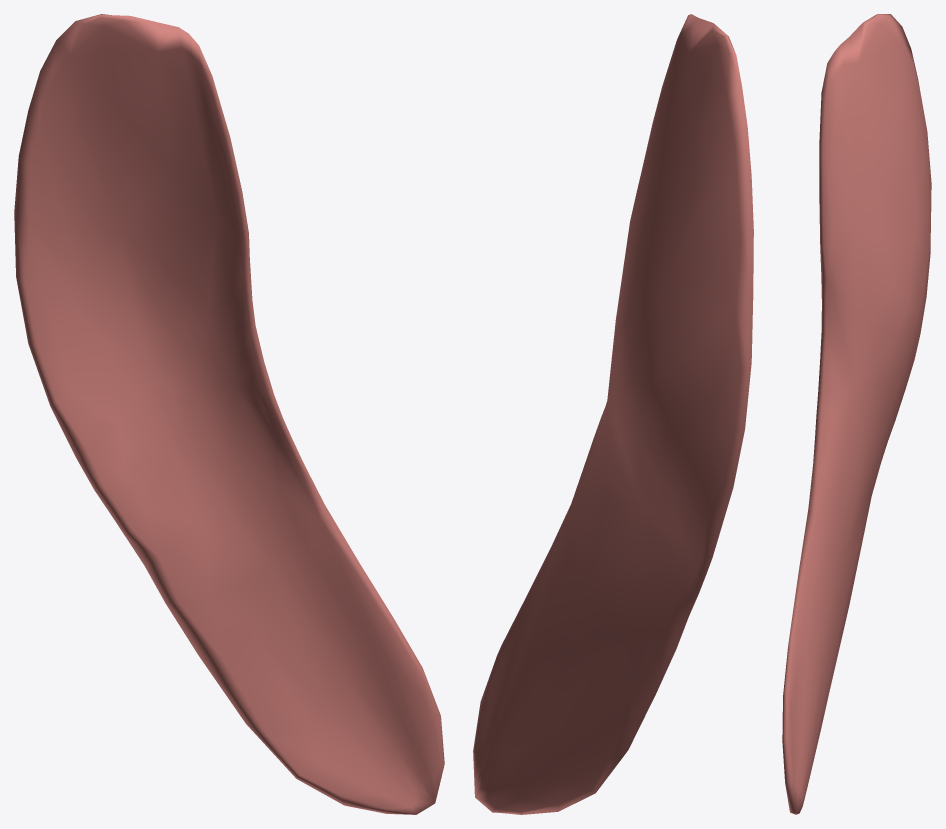
3 views of the same model, side by side, from view 1: azimuth 30°, elevation 25°; view 2: azimuth 150°, elevation 25°; view 3: azimuth 270°, elevation 25° (orthographic). The views are drawn at different scales.
Visible parts, largest first — view 1: ZA_adfff9c92396b779; view 2: ZA_adfff9c92396b779; view 3: ZA_adfff9c92396b779.
Part boxes in pixels (x1,y1,x2,y2): ZA_adfff9c92396b779: (14, 14, 444, 814); ZA_adfff9c92396b779: (473, 14, 753, 814); ZA_adfff9c92396b779: (782, 14, 931, 814).
Size of the model in its own units: 0.0191 by 0.0439 by 0.00857.
